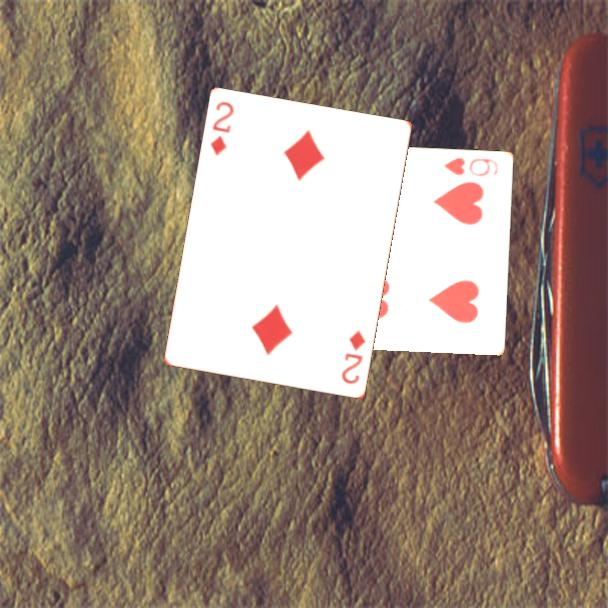d02: (338, 327, 369, 387), (207, 98, 237, 158)
h06: (441, 154, 501, 179)
